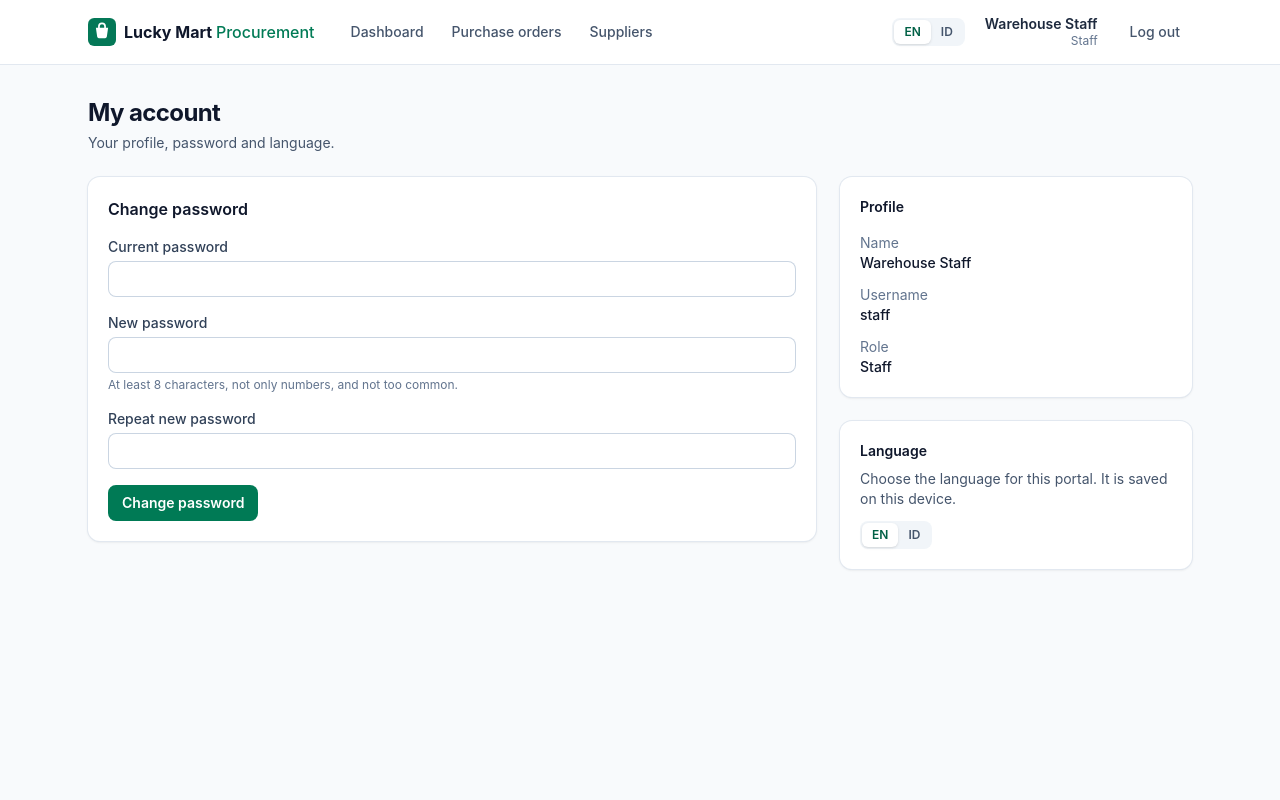
Test: account page › shows the backend error with a translated field name
Type "nope" into the password field labelled "Current password" at (452,279), box [108,261,796,297]
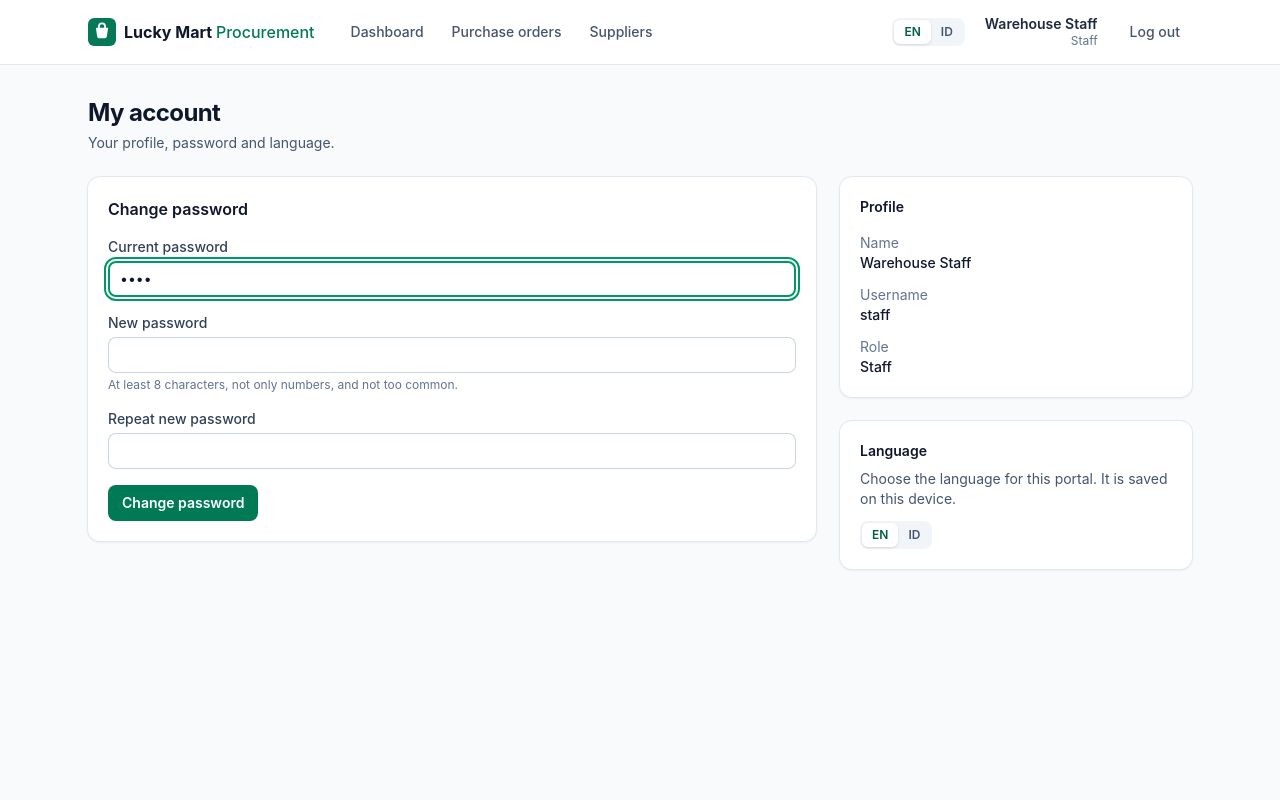
Type "Kopi-Toba-2026" into the password field labelled "New password" at (452,355), box [108,337,796,373]
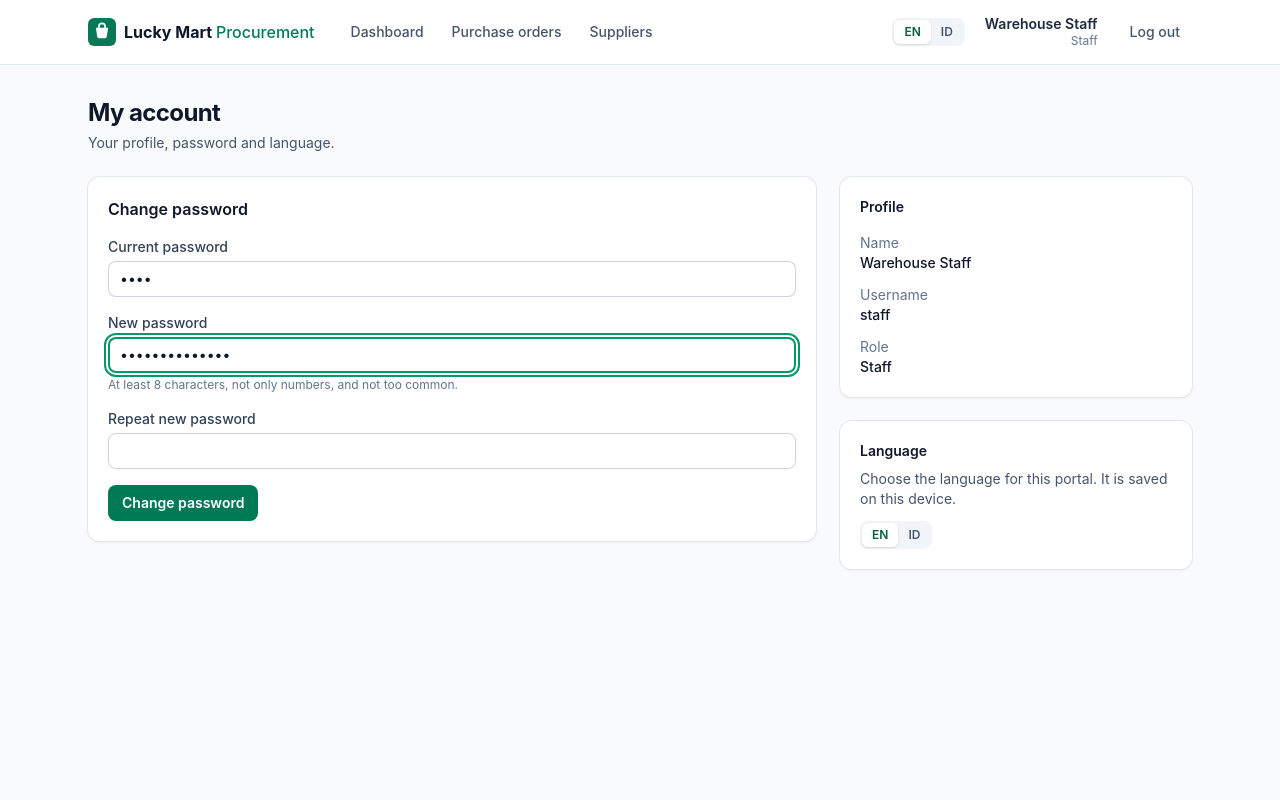
Type "Kopi-Toba-2026" into the password field labelled "Repeat new password" at (452,451), box [108,433,796,469]
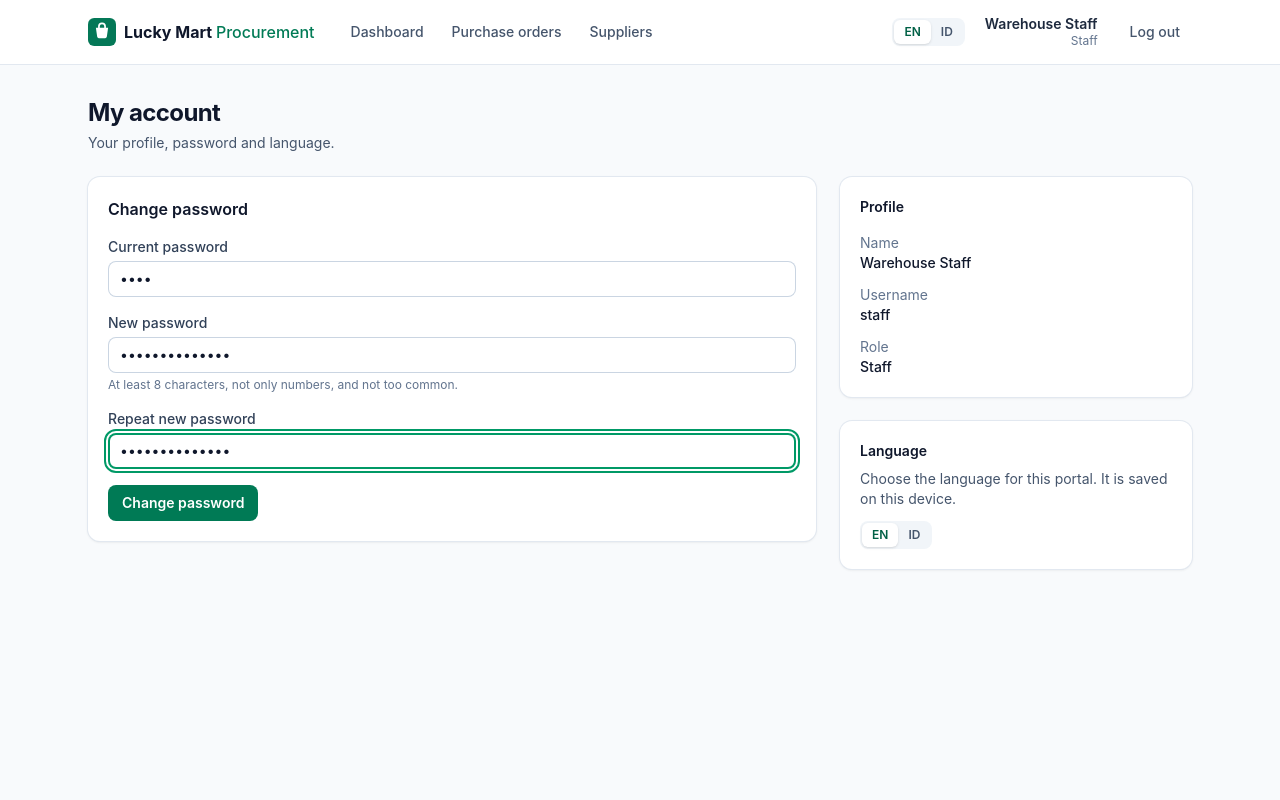
Click the button "Change password" at (183,503), box [108,485,258,521]
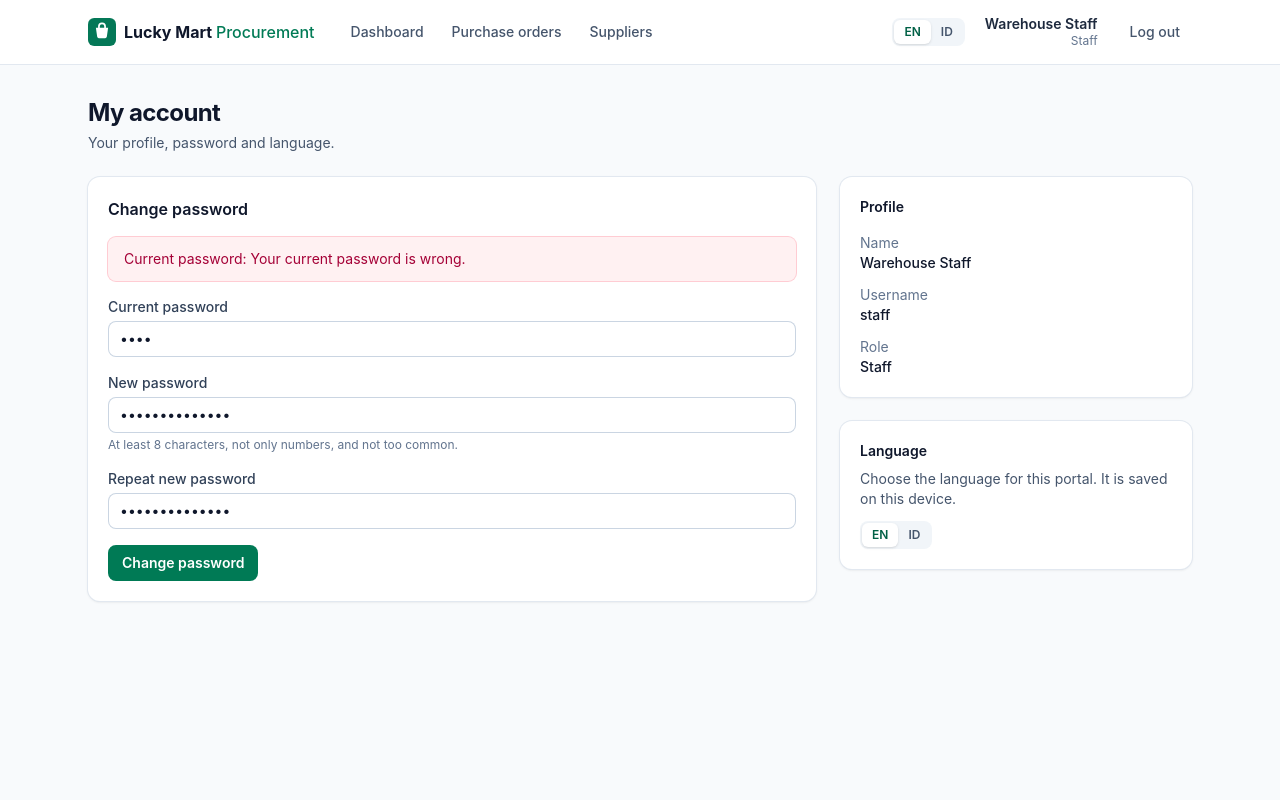
Result: the message reads "Current password: Your current password is wrong." at [124,250,466,267]
